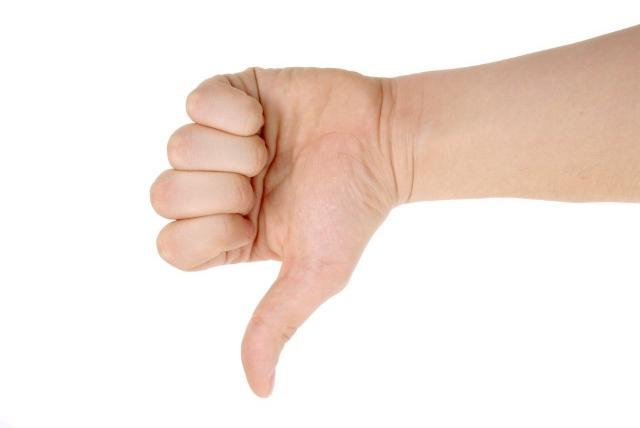thumbsdown: (147, 69, 316, 400)
